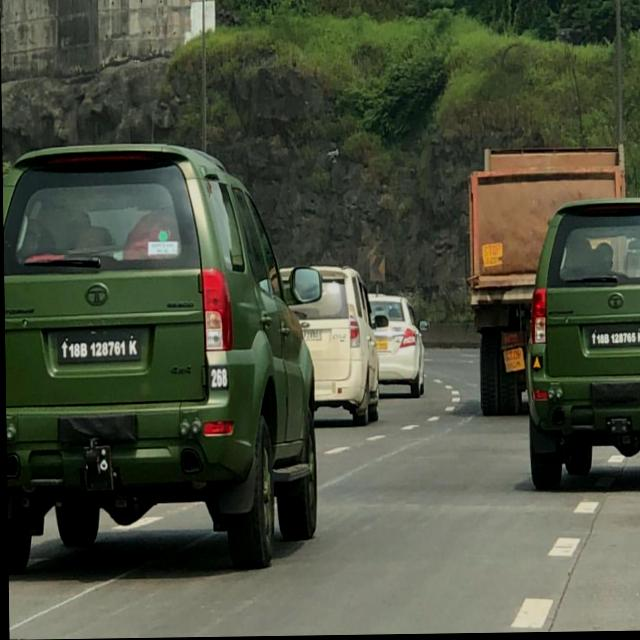1: (89, 343, 95, 357), (68, 342, 73, 358), (119, 341, 124, 356), (610, 336, 614, 345), (596, 335, 599, 346)
2: (210, 370, 216, 389), (94, 343, 101, 357), (614, 336, 618, 345)
5: (631, 335, 634, 345)
6: (215, 369, 222, 388), (114, 342, 119, 355), (626, 335, 631, 345)
7: (108, 341, 112, 356), (623, 335, 626, 345)
8: (220, 368, 226, 387), (101, 343, 107, 357), (73, 344, 79, 357), (599, 336, 603, 346), (618, 335, 622, 345)
b: (80, 343, 86, 358), (603, 335, 608, 345)
k: (128, 340, 136, 355)
n: (636, 333, 640, 345)
